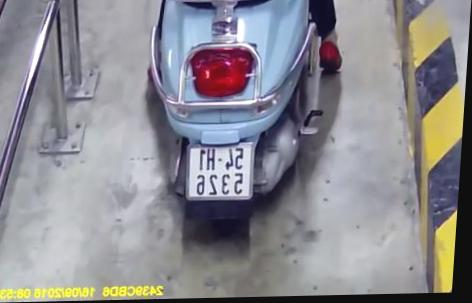License_Plate: (178, 138, 261, 206)
